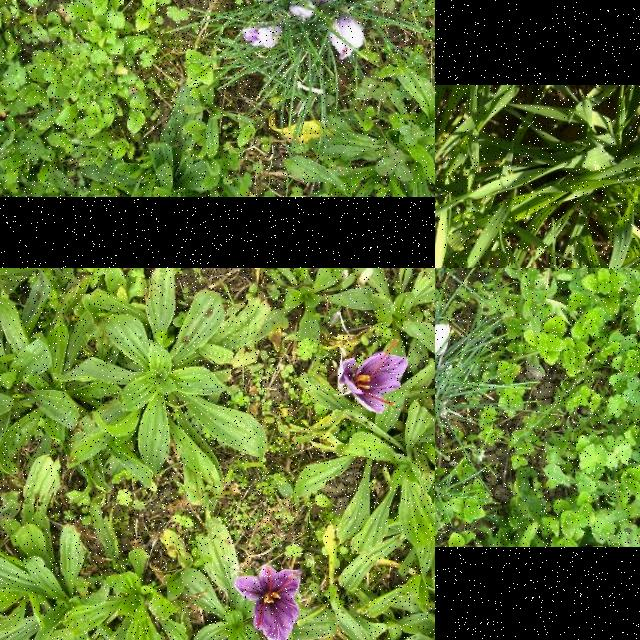flower: (236, 564, 302, 640), (338, 351, 409, 414), (330, 14, 364, 62), (288, 2, 318, 20), (435, 323, 450, 357)
overlap: (242, 26, 282, 49)
